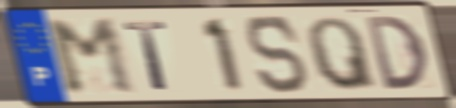1: (199, 16, 251, 94)
D: (362, 13, 431, 93)
M: (42, 16, 141, 98)
Q: (304, 14, 381, 93)
S: (244, 13, 312, 97)
T: (120, 19, 173, 93)
